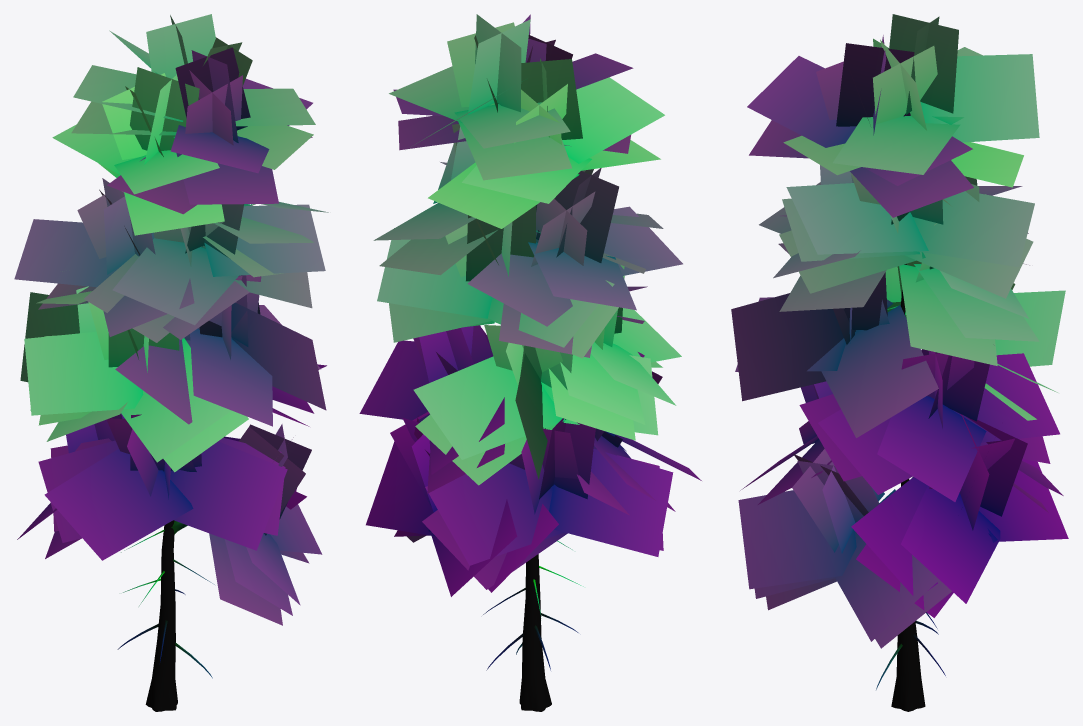
The model's file is Tree_2_6.fbx.
3 renders of one model, left to right at view 1: azimuth 30°, elevation 25°; view 2: azimuth 150°, elevation 25°; view 3: azimuth 270°, elevation 25°, orthographic. The views are drawn at different scales.
Parts seen in each view (by area): view 1: _6; view 2: _6; view 3: _6.
Boxes of the visible parts, left/top/right/bottom form: _6: left=14, top=14, right=328, bottom=711; _6: left=359, top=14, right=701, bottom=711; _6: left=731, top=14, right=1068, bottom=711.
Size of the model in its own units: 824 by 1851 by 809.
